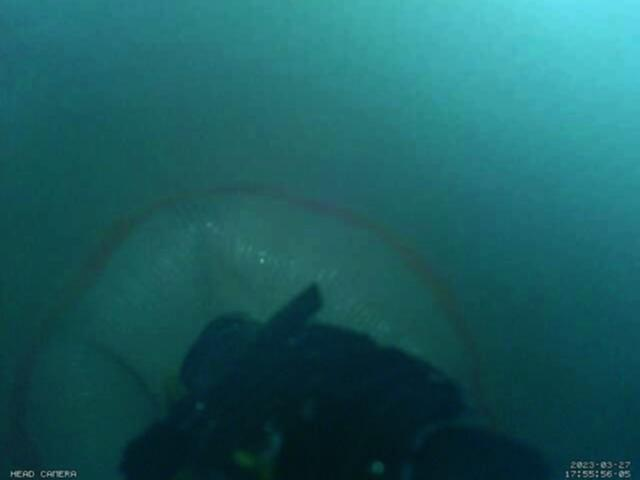head: (5, 185, 496, 480)
